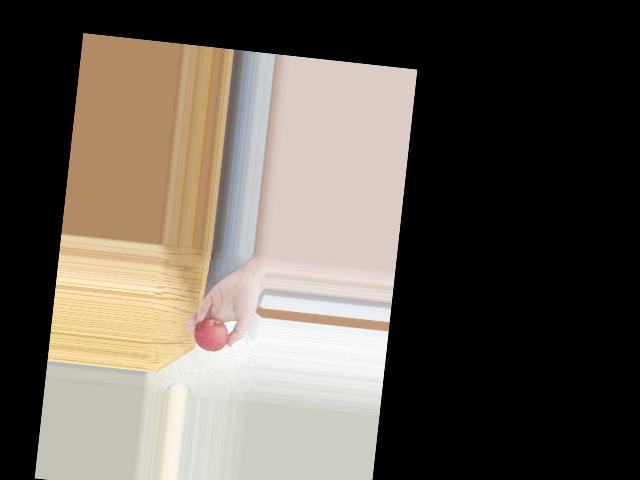apple: (191, 316, 228, 355)
